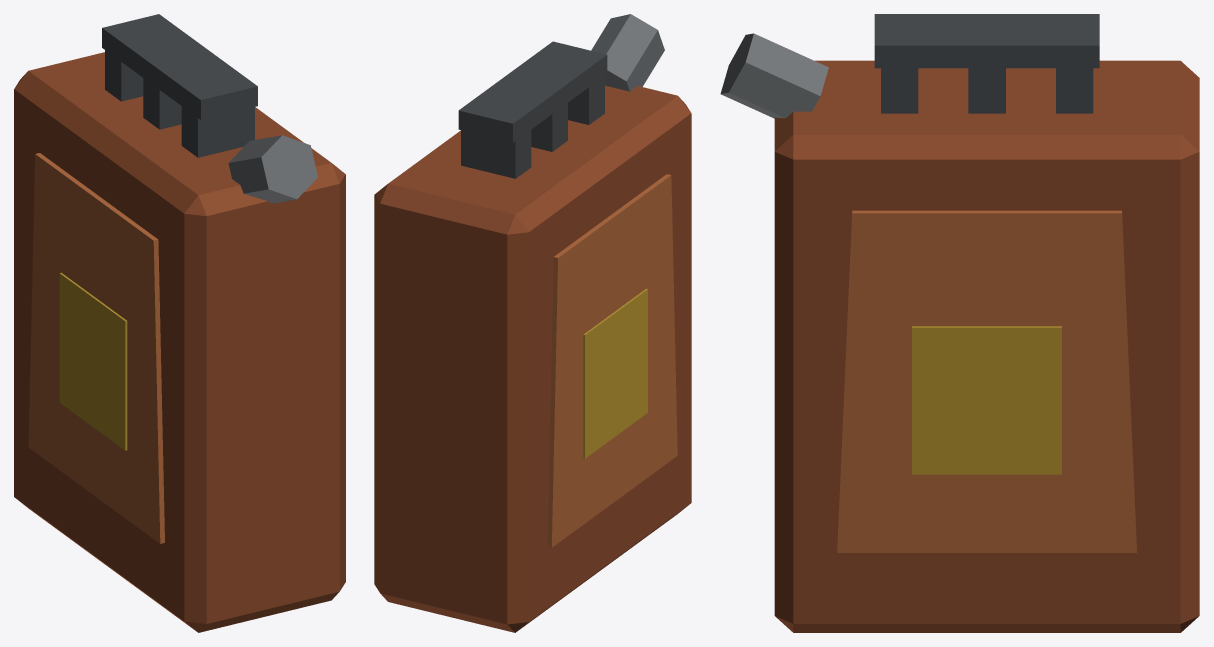
File: item_fuel_can.glb
3 views of the same model, side by side, from view 1: azimuth 30°, elevation 25°; view 2: azimuth 150°, elevation 25°; view 3: azimuth 270°, elevation 25° (orthographic). The views are drawn at different scales.
Parts seen in each view (by area): view 1: fuel_can; view 2: fuel_can; view 3: fuel_can.
Part boxes in pixels (bbox=[...]): fuel_can: bbox=[14, 14, 345, 632]; fuel_can: bbox=[374, 14, 691, 632]; fuel_can: bbox=[720, 14, 1199, 632].
Size of the model in its own units: 0.184 by 0.5 by 0.3834.
